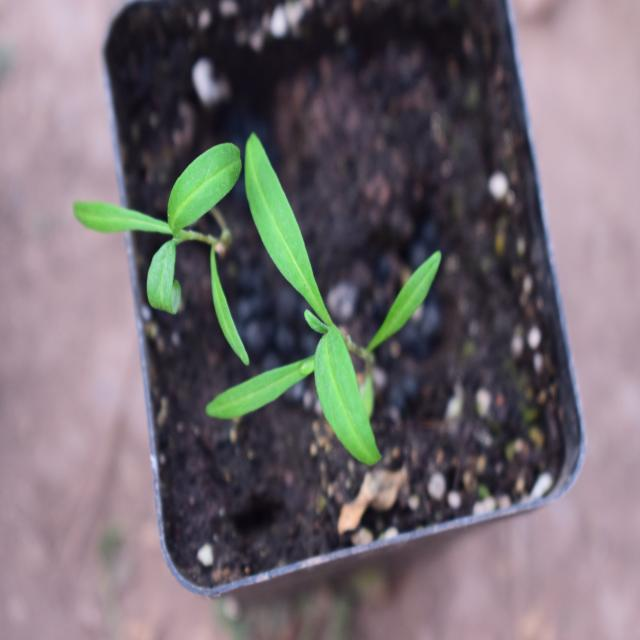white_smart_weed: (229, 116, 428, 480), (44, 116, 268, 356)
